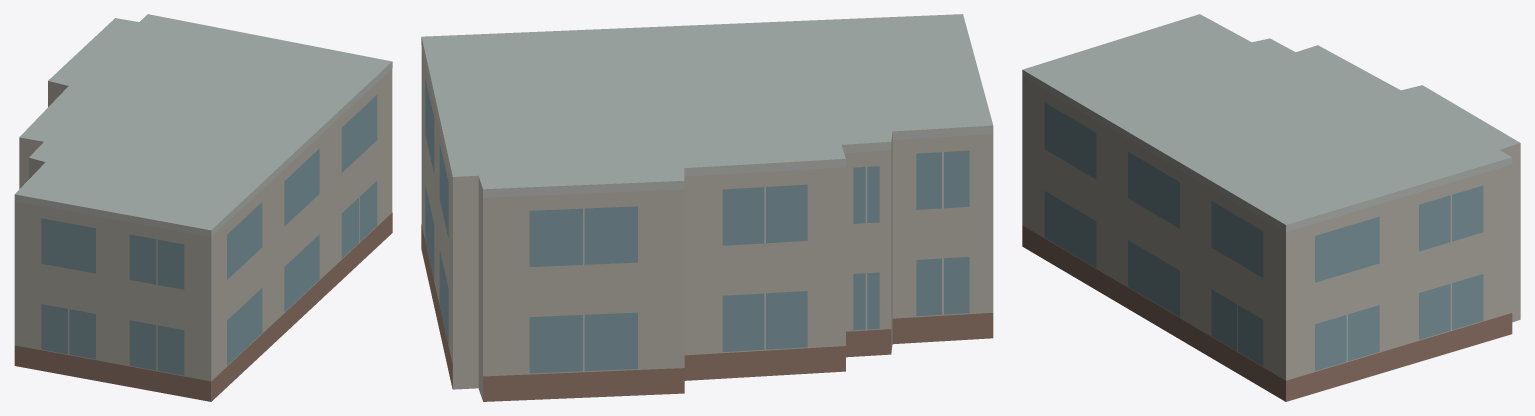
Rendered from survey-upis-32625507.glb.
3 renders of one model, left to right at view 1: azimuth 30°, elevation 25°; view 2: azimuth 150°, elevation 25°; view 3: azimuth 270°, elevation 25°, orthographic. The views are drawn at different scales.
Visible parts, largest first — view 1: survey-upis-32625507.tmp; view 2: survey-upis-32625507.tmp; view 3: survey-upis-32625507.tmp.
Boxes of the visible parts, x1,y1,x2,y2 form: survey-upis-32625507.tmp: [14, 14, 392, 401]; survey-upis-32625507.tmp: [421, 14, 993, 401]; survey-upis-32625507.tmp: [1022, 14, 1520, 401].
Bounding box in the file's own units: 15.62 × 6.1 × 15.58.
